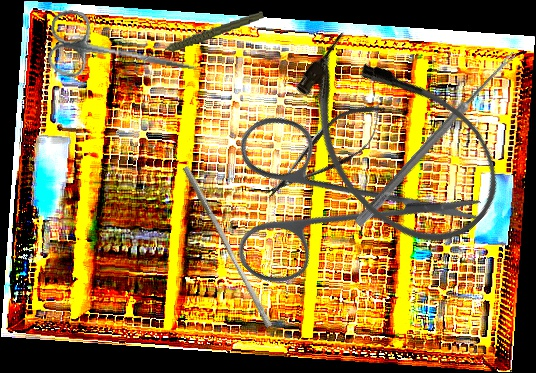Cannula: (266, 11, 525, 272)
Handpiece: (147, 10, 267, 56)
Iris Scissors: (177, 46, 490, 358), (43, 7, 204, 99)
Micro Scissor: (252, 89, 399, 215)
Pusher: (175, 165, 279, 329)
Surgical Spoon: (354, 48, 518, 229)
